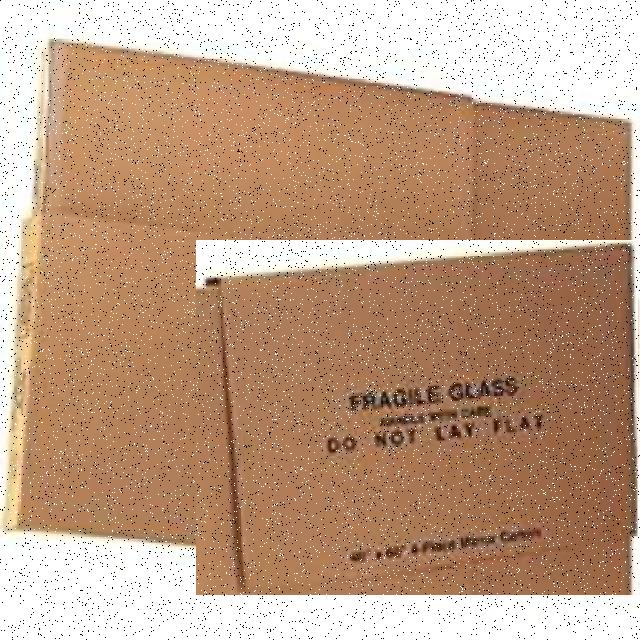normal: (196, 240, 638, 595), (3, 210, 254, 548)
